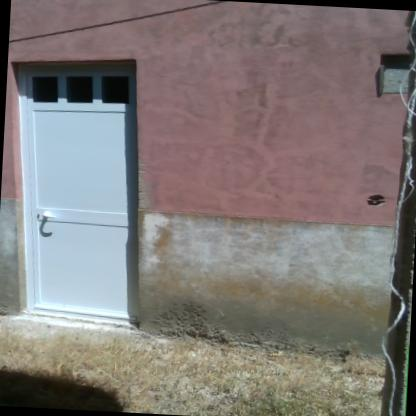closed: (0, 46, 153, 335)
